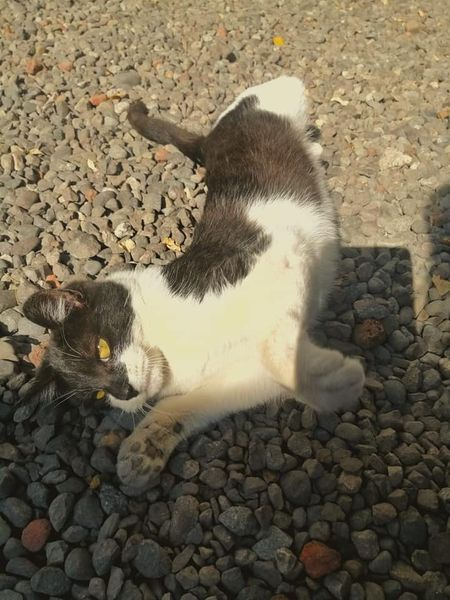cat: (17, 66, 388, 499)
